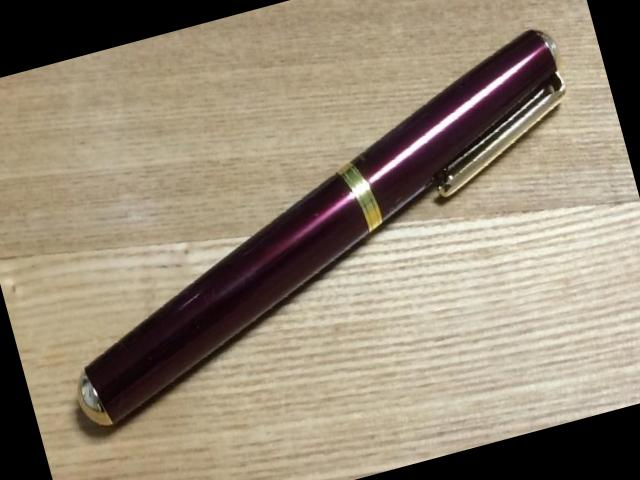PEN: (40, 14, 592, 444)
